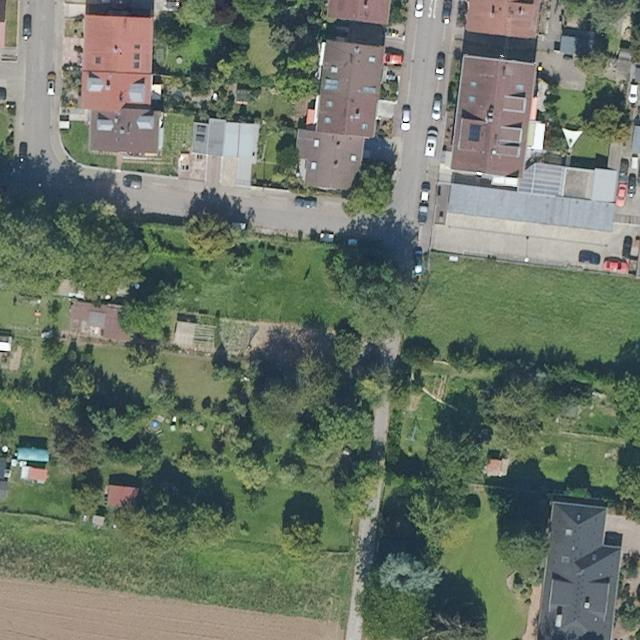PV: (465, 120, 482, 146)
